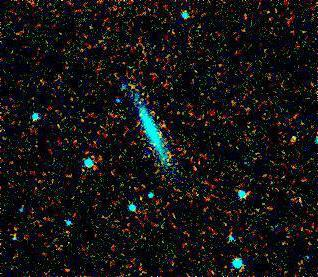star: (131, 140, 161, 170)
